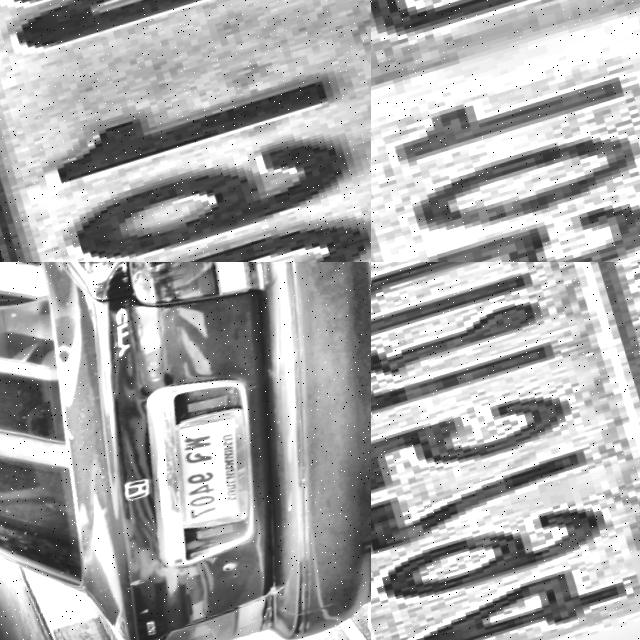license-plate: (371, 262, 640, 640), (0, 0, 371, 262), (371, 0, 640, 262), (144, 403, 273, 545)
